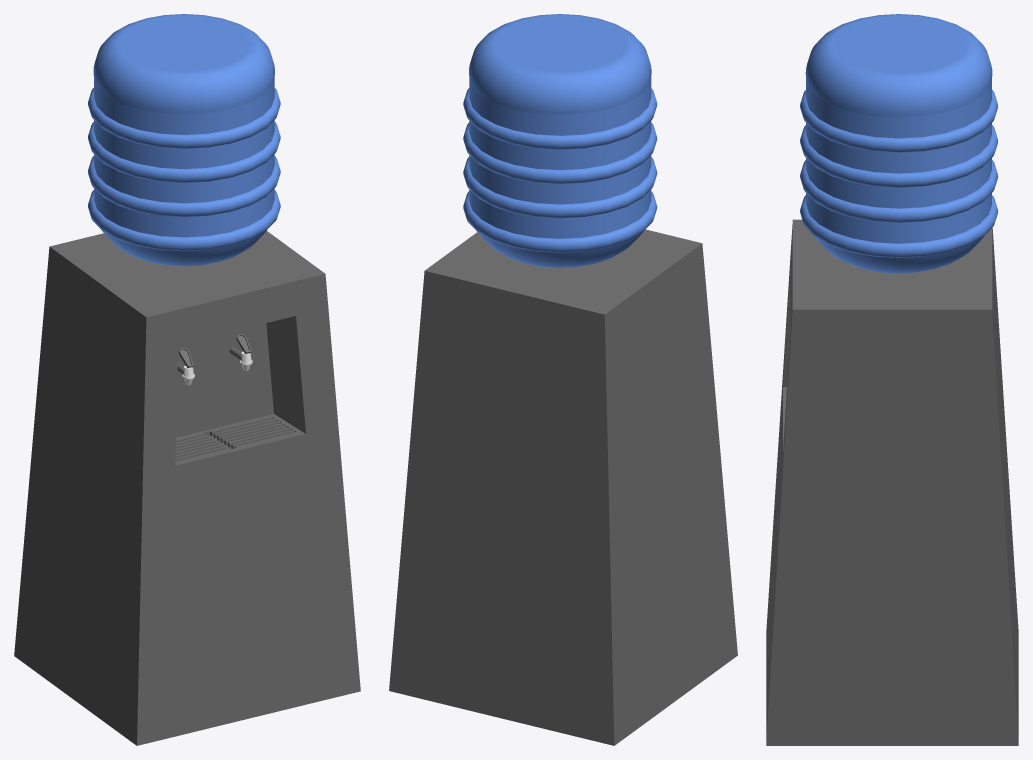
Rendered from watercooler.fbx.
3 views of the same model, side by side, from view 1: azimuth 30°, elevation 25°; view 2: azimuth 150°, elevation 25°; view 3: azimuth 270°, elevation 25° (orthographic). The views are drawn at different scales.
Parts seen in each view (by area): view 1: Model; view 2: Model; view 3: Model.
Boxes of the visible parts, x1,y1,x2,y2 form: Model: (14, 14, 360, 745); Model: (389, 14, 737, 745); Model: (766, 14, 1018, 745).
Bounding box in the file's own units: 163 × 155 × 437.
